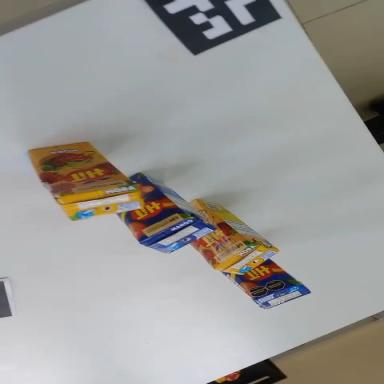HIT-MANGO: (102, 166, 218, 274), (219, 241, 312, 326)
HIT-MORA: (168, 189, 279, 293), (28, 133, 144, 226)
cara_F: (29, 132, 137, 202), (101, 170, 187, 256), (168, 197, 248, 275), (229, 251, 299, 305)
